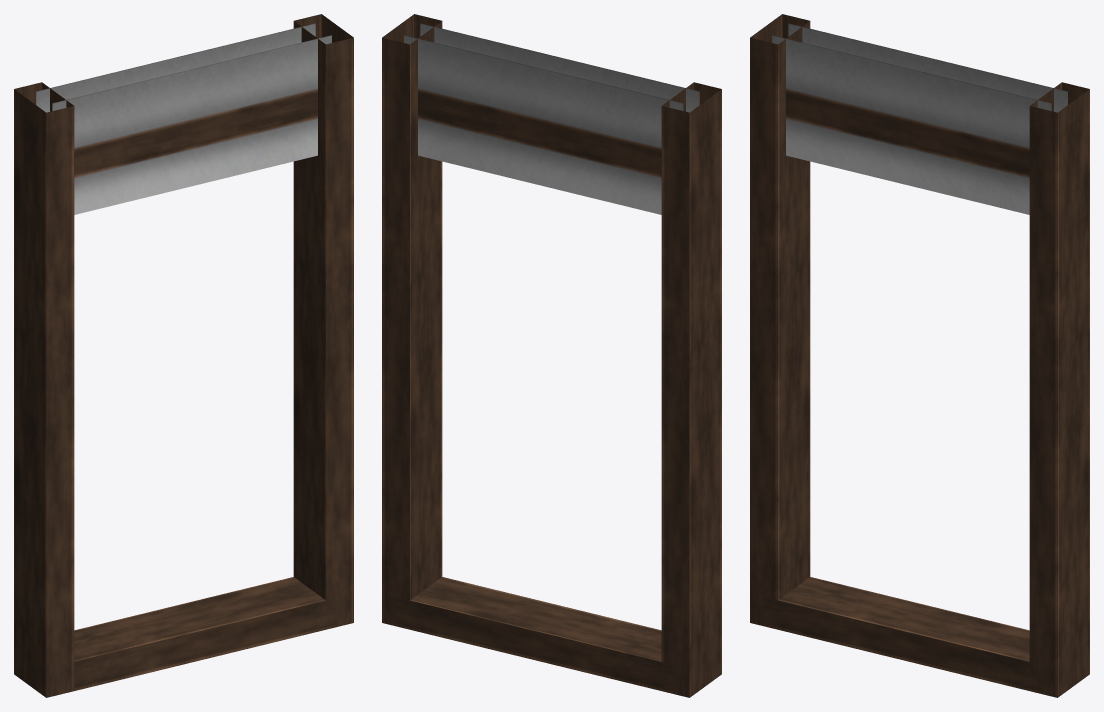
The model's file is house_passage_2x4.fbx.
3 views of the same model, side by side, from view 1: azimuth 30°, elevation 25°; view 2: azimuth 150°, elevation 25°; view 3: azimuth 330°, elevation 25° (orthographic).
Parts seen in each view (by area): view 1: house_passage_2x4; view 2: house_passage_2x4; view 3: house_passage_2x4.
Boxes of the visible parts, x1,y1,x2,y2 form: house_passage_2x4: [14, 14, 353, 697]; house_passage_2x4: [382, 14, 721, 697]; house_passage_2x4: [750, 14, 1089, 697].
Bounding box in the file's own units: 220 × 400 × 40.
